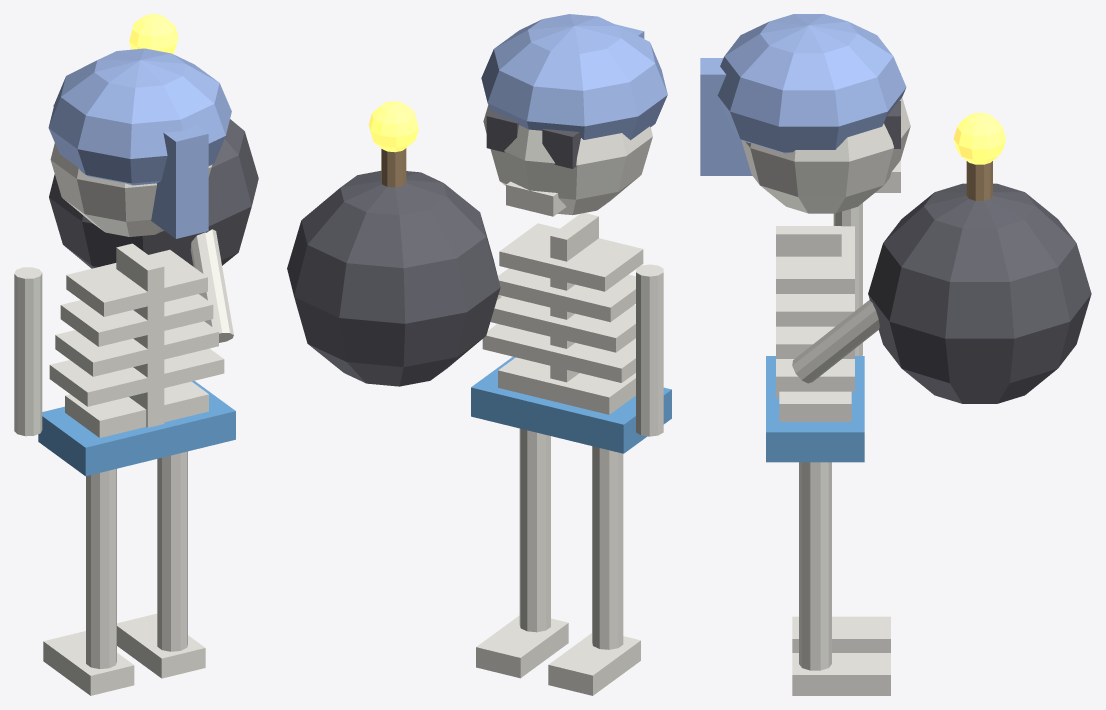
The model's file is bomber.glb.
3 views of the same model, side by side, from view 1: azimuth 30°, elevation 25°; view 2: azimuth 150°, elevation 25°; view 3: azimuth 270°, elevation 25° (orthographic). The views are drawn at different scales.
Visible parts, largest first — view 1: bomber; view 2: bomber; view 3: bomber.
Boxes of the visible parts, x1=… form: bomber: x1=14, y1=14, x2=258, y2=695; bomber: x1=287, y1=14, x2=671, y2=695; bomber: x1=700, y1=14, x2=1091, y2=695.
Bounding box in the file's own units: 1.06 × 2.15 × 1.19.
